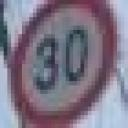speed_limit_30: (4, 0, 120, 124)
